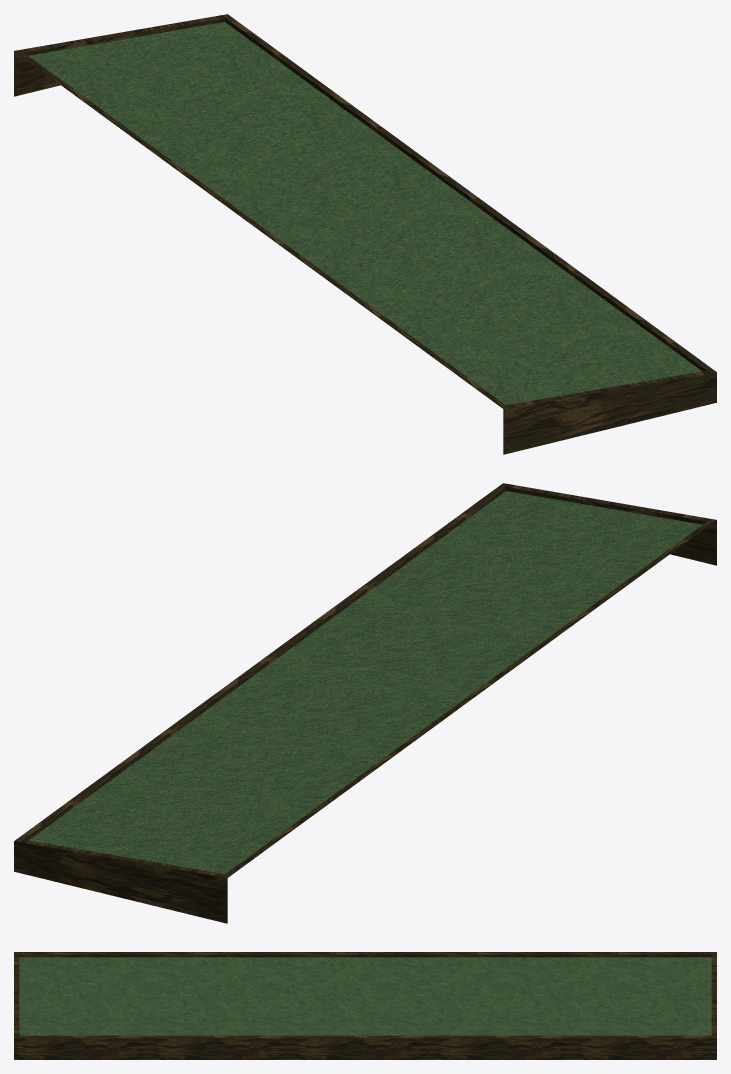
File: yard.fbx
3 renders of one model, top to bottom at view 1: azimuth 30°, elevation 25°; view 2: azimuth 150°, elevation 25°; view 3: azimuth 270°, elevation 25°, orthographic. The views are drawn at different scales.
Visible parts, largest first — view 1: yard; view 2: yard; view 3: yard.
Part boxes in pixels (x1,y1,x2,y2): yard: [14, 14, 716, 454]; yard: [14, 483, 716, 923]; yard: [14, 952, 716, 1059].
Size of the model in its own units: 596 by 122 by 2364.
1 material, 1 textured.
